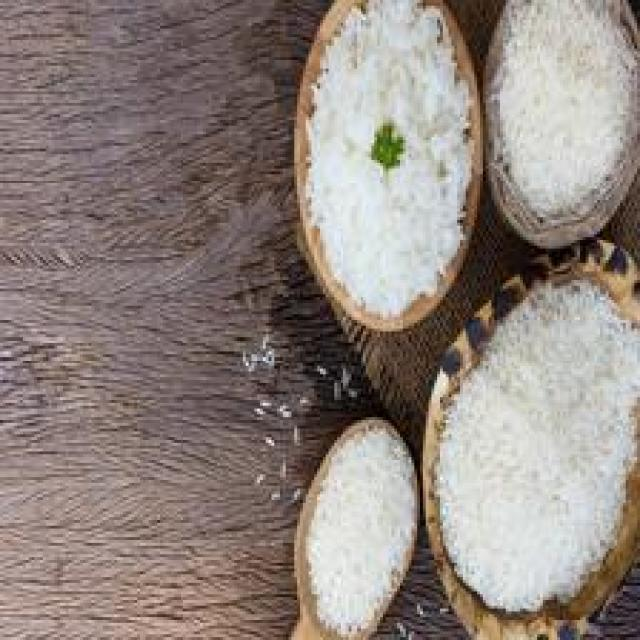Wet Waste: (437, 271, 640, 618), (298, 0, 476, 328), (495, 0, 636, 227), (297, 419, 418, 640)
